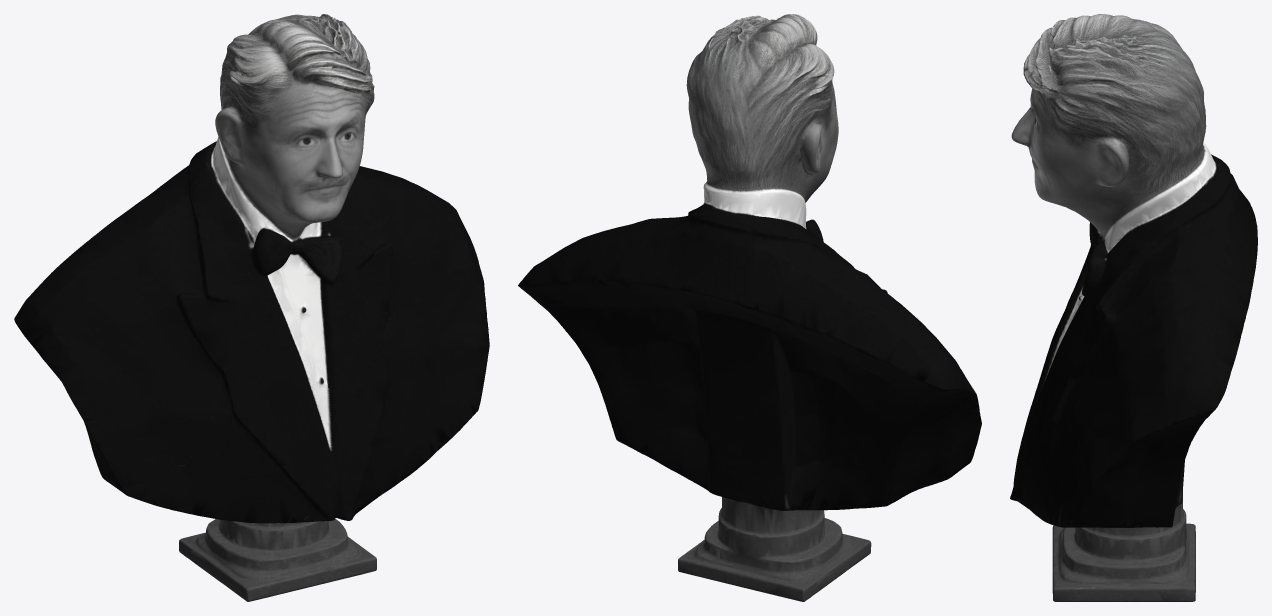
Rendered from tuxedo.glb.
The picture shows the model from 3 angles, left to right: view 1: azimuth 30°, elevation 25°; view 2: azimuth 150°, elevation 25°; view 3: azimuth 270°, elevation 25°; orthographic projection. The views are drawn at different scales.
Bounding box in the file's own units: 1.62 × 1.9 × 0.7663.
Materials: 1 (1 with a texture image).
